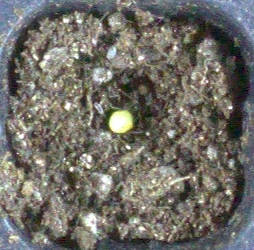chilli seed: (108, 109, 133, 133)
